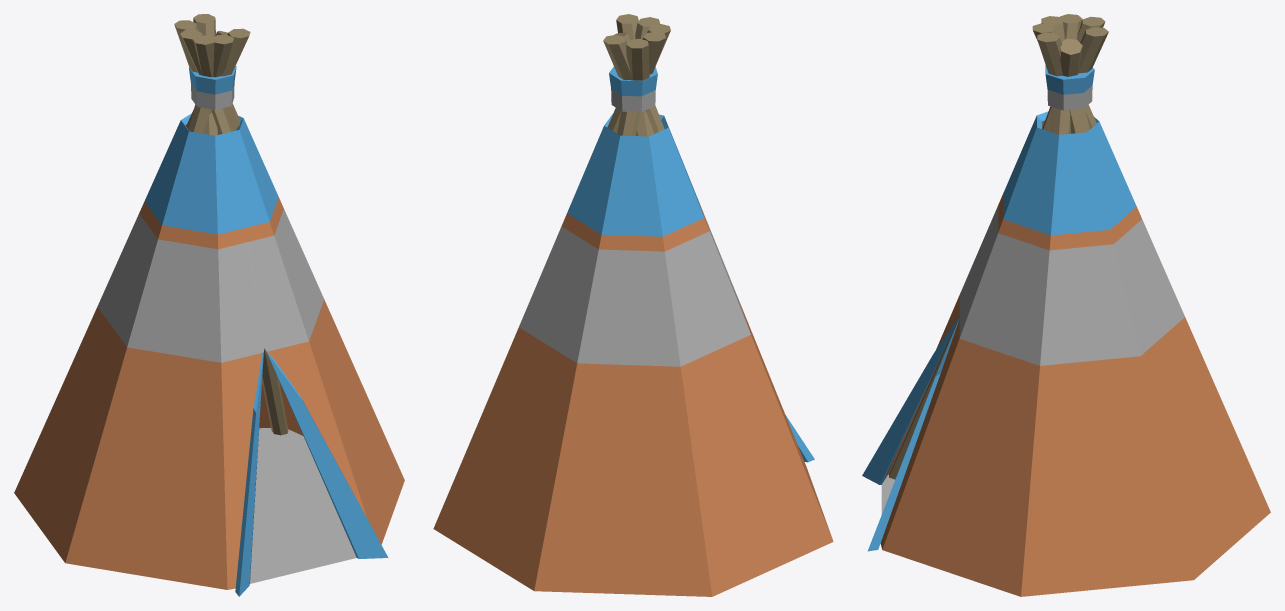
The model's file is TiendaIndio.fbx.
The picture shows the model from 3 angles, left to right: view 1: azimuth 30°, elevation 25°; view 2: azimuth 150°, elevation 25°; view 3: azimuth 270°, elevation 25°; orthographic projection. The views are drawn at different scales.
Parts seen in each view (by area): view 1: Cylinder, Cylinder.006, Cylinder.001, Cylinder.004, Cylinder.005, Cylinder.008, Cylinder.007, Cylinder.003; view 2: Cylinder, Cylinder.001, Cylinder.004, Cylinder.007, Cylinder.003, Cylinder.008; view 3: Cylinder, Cylinder.003, Cylinder.001, Cylinder.005, Cylinder.008, Cylinder.002, Cylinder.006.
Part boxes in pixels (x1=…): Cylinder: x1=14, y1=113, x2=404, y2=596; Cylinder.006: x1=193, y1=35, x2=288, y2=435; Cylinder.001: x1=189, y1=66, x2=236, y2=109; Cylinder.004: x1=174, y1=20, x2=232, y2=134; Cylinder.005: x1=180, y1=30, x2=240, y2=131; Cylinder.008: x1=186, y1=28, x2=250, y2=129; Cylinder.007: x1=194, y1=35, x2=233, y2=106; Cylinder.003: x1=193, y1=14, x2=217, y2=135; Cylinder: x1=433, y1=114, x2=833, y2=596; Cylinder.001: x1=609, y1=66, x2=657, y2=112; Cylinder.004: x1=626, y1=38, x2=649, y2=80; Cylinder.007: x1=617, y1=17, x2=659, y2=135; Cylinder.003: x1=603, y1=34, x2=646, y2=110; Cylinder.008: x1=616, y1=14, x2=653, y2=136; Cylinder: x1=862, y1=111, x2=1270, y2=596; Cylinder.003: x1=889, y1=27, x2=1108, y2=479; Cylinder.001: x1=1045, y1=65, x2=1094, y2=110; Cylinder.005: x1=1051, y1=14, x2=1082, y2=134; Cylinder.008: x1=1037, y1=32, x2=1062, y2=76; Cylinder.002: x1=1060, y1=38, x2=1082, y2=76; Cylinder.006: x1=1041, y1=16, x2=1089, y2=133.
Size of the model in its own units: 580 by 781 by 593.
